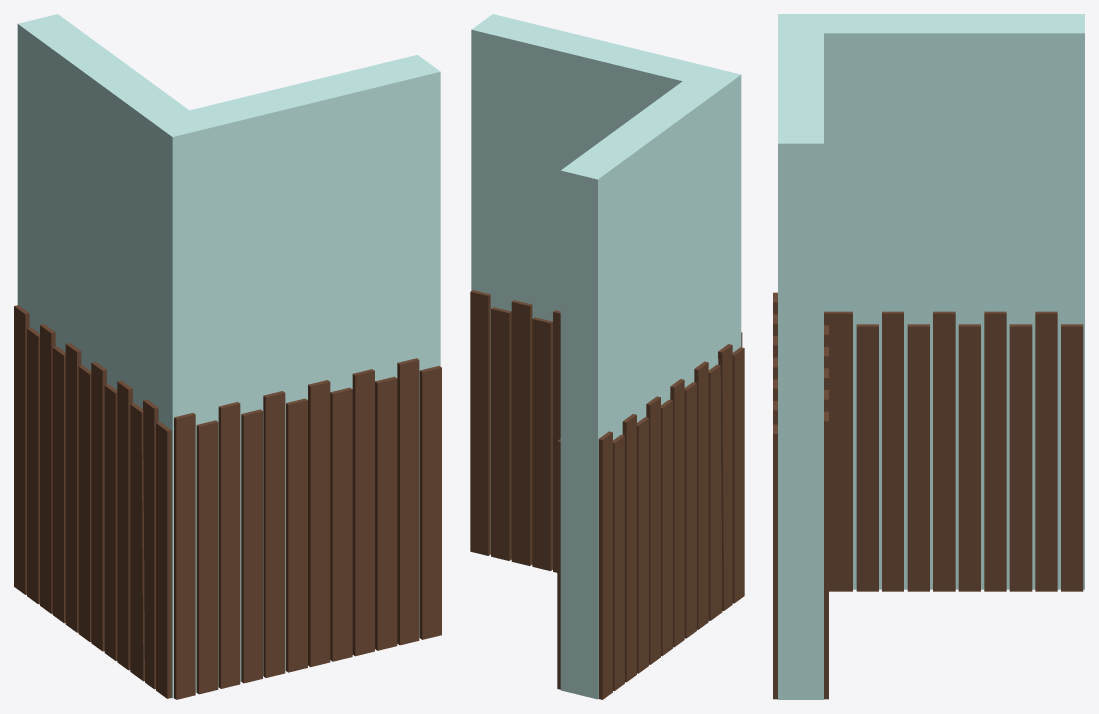
Rendered from BeachCorner.glb.
3 renders of one model, left to right at view 1: azimuth 30°, elevation 25°; view 2: azimuth 150°, elevation 25°; view 3: azimuth 270°, elevation 25°, orthographic. The views are drawn at different scales.
Visible parts, largest first — view 1: wall_waveBoards_corner; view 2: wall_waveBoards_corner; view 3: wall_waveBoards_corner.
Part boxes in pixels (<box>): wall_waveBoards_corner: <box>14,14,441,699</box>; wall_waveBoards_corner: <box>470,14,744,699</box>; wall_waveBoards_corner: <box>773,14,1084,699</box>.
Size of what is drawn, in the model's own units: 2.03 by 4 by 2.03.
Materials: 1 (1 with a texture image).
